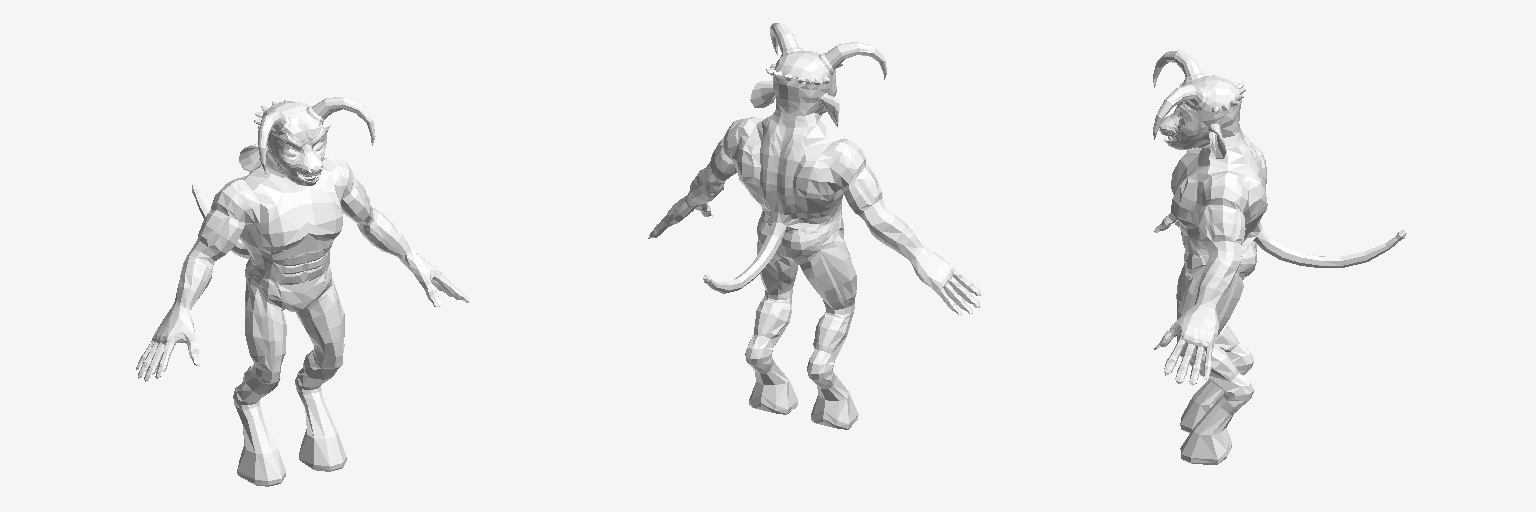
Rendered from demon.obj.
3 renders of one model, left to right at view 1: azimuth 30°, elevation 25°; view 2: azimuth 150°, elevation 25°; view 3: azimuth 270°, elevation 25°, orthographic.
Visible parts, largest first — view 1: demonmesh; view 2: demonmesh; view 3: demonmesh.
Part boxes in pixels (x1,y1,x2,y2): demonmesh: (136,97,468,486); demonmesh: (648,23,980,429); demonmesh: (1153,50,1406,464).
Size of the model in its own units: 7.48 by 8.24 by 5.1.